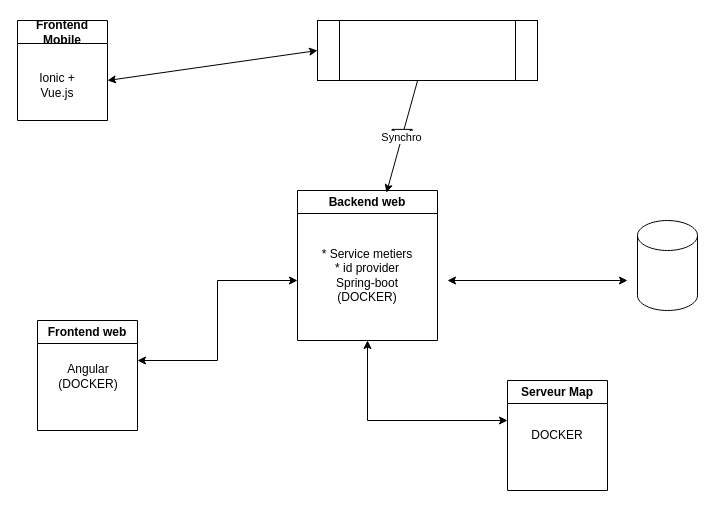
This 715x508 diagram has some shape labels left out. Each missing label, with the centre of its shape:
"Firebase" goes at [427,50].
"Postgres (DOCKER)" goes at [667,265].
